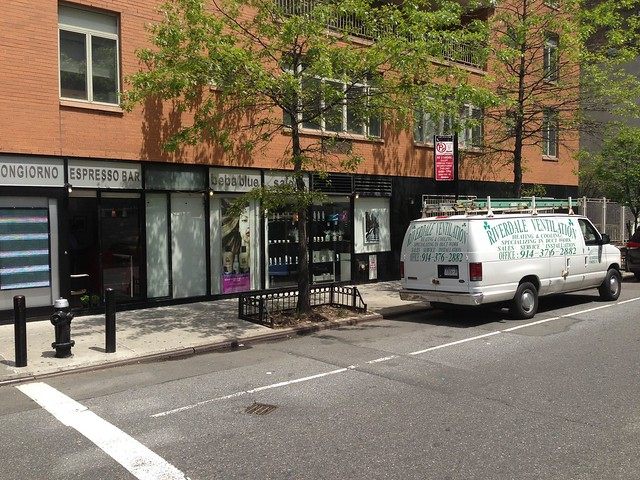car: (398, 215, 622, 319)
